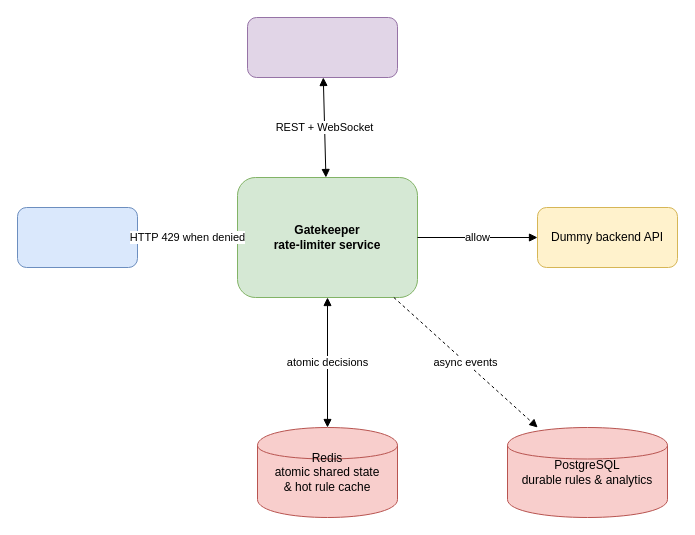
The diagram is 695 pixels wide and 535 high, and some of its shapes have lost their labels. The centre of each missing label's shape, as x and y in pixels:
API client: (77,237)
React dashboard: (322,47)
